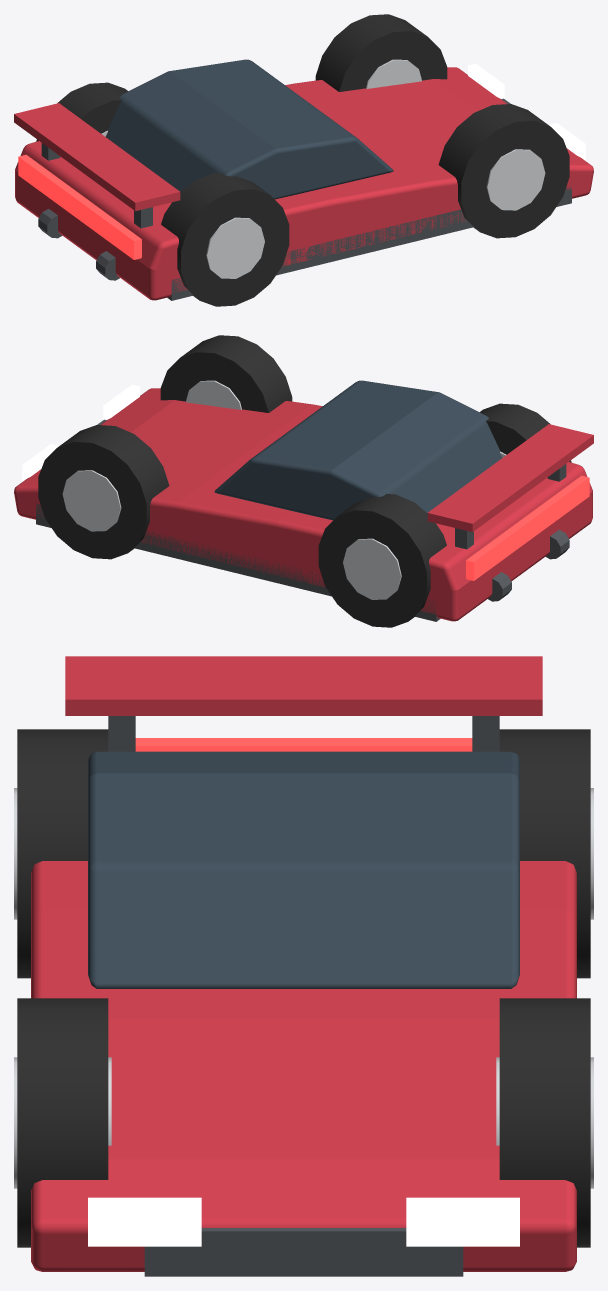
Rendered from sportscar.glb.
3 renders of one model, top to bottom at view 1: azimuth 30°, elevation 25°; view 2: azimuth 150°, elevation 25°; view 3: azimuth 270°, elevation 25°, orthographic. The views are drawn at different scales.
Visible parts, largest first — view 1: Body, Canopy, Wheel_FR, Wheel_RR, Wheel_FL, Spoiler, Skirts, Taillights, Wheel_RL, Headlights, SpoilerStruts, Exhaust2 (+1 smaller); view 2: Body, Canopy, Wheel_FL, Wheel_RL, Wheel_FR, Spoiler, Skirts, Taillights, Wheel_RR, Headlights, SpoilerStruts, Exhaust (+1 smaller); view 3: Body, Canopy, Spoiler, Wheel_FL, Wheel_FR, Grille, Wheel_RL, Wheel_RR, Headlights, Taillights, SpoilerStruts.
Part boxes in pixels (x1,y1,x2,y2): Body: [15, 67, 593, 300]; Canopy: [105, 59, 393, 199]; Wheel_FR: [438, 104, 569, 238]; Wheel_RR: [161, 173, 289, 306]; Wheel_FL: [315, 14, 447, 91]; Spoiler: [14, 103, 180, 210]; Skirts: [167, 187, 571, 300]; Taillights: [18, 154, 141, 259]; Wheel_RL: [36, 82, 127, 141]; Headlights: [468, 63, 585, 160]; SpoilerStruts: [41, 143, 152, 228]; Exhaust2: [96, 251, 119, 280]; Body: [14, 388, 592, 621]; Canopy: [214, 380, 502, 520]; Wheel_FL: [38, 425, 169, 559]; Wheel_RL: [318, 494, 446, 627]; Wheel_FR: [160, 335, 292, 412]; Spoiler: [427, 424, 593, 531]; Skirts: [36, 503, 440, 621]; Taillights: [466, 475, 589, 580]; Wheel_RR: [480, 403, 571, 462]; Headlights: [22, 384, 139, 481]; SpoilerStruts: [455, 464, 566, 549]; Exhaust: [488, 572, 511, 601]; Body: [31, 861, 576, 1271]; Canopy: [88, 751, 519, 988]; Spoiler: [65, 656, 542, 715]; Wheel_FL: [496, 998, 593, 1247]; Wheel_FR: [14, 998, 111, 1247]; Grille: [144, 1228, 463, 1276]; Wheel_RL: [499, 729, 593, 978]; Wheel_RR: [14, 729, 108, 978]; Headlights: [88, 1197, 519, 1246]; Taillights: [135, 738, 472, 751]; SpoilerStruts: [108, 716, 499, 751].
Size of the model in its own units: 45.85 by 12.2 by 25.5.
